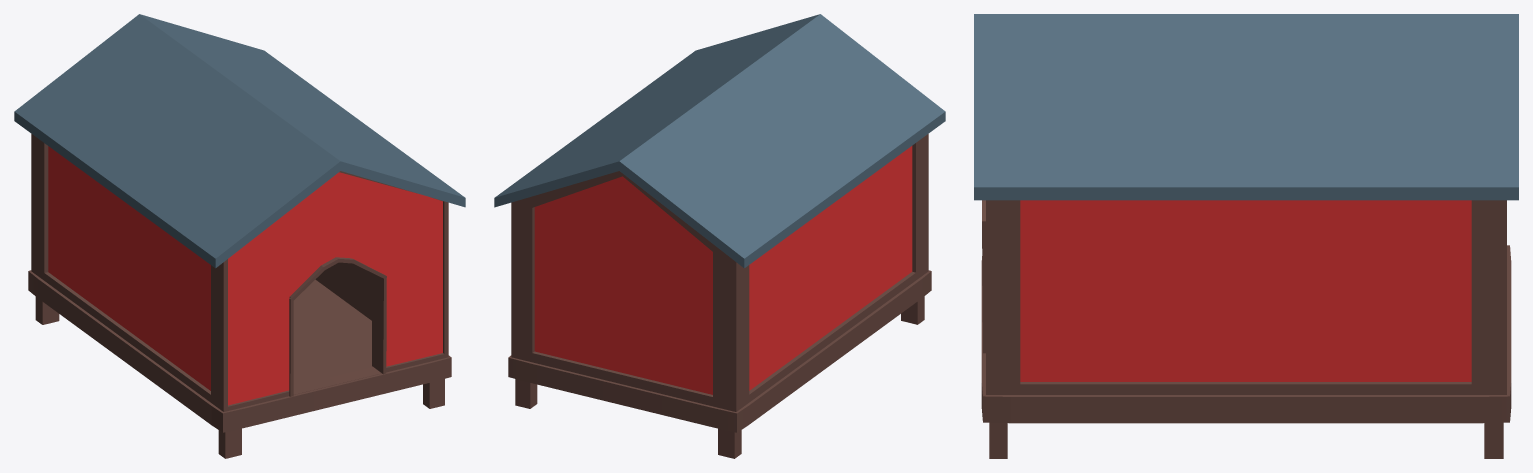
File: Garden Niche.glb
3 views of the same model, side by side, from view 1: azimuth 30°, elevation 25°; view 2: azimuth 150°, elevation 25°; view 3: azimuth 270°, elevation 25° (orthographic). The views are drawn at different scales.
Visible parts, largest first — view 1: Niche; view 2: Niche; view 3: Niche.
Part boxes in pixels (<box>): Niche: <box>14,14,465,458</box>; Niche: <box>494,14,945,458</box>; Niche: <box>974,14,1518,458</box>.
Bounding box in the file's own units: 1.01 × 1.06 × 1.41.
1 material, 1 textured.
